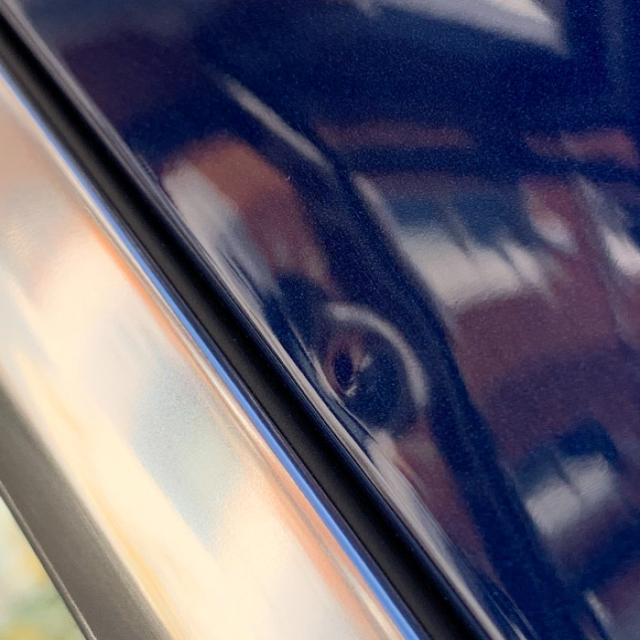dents: (287, 274, 444, 447)
